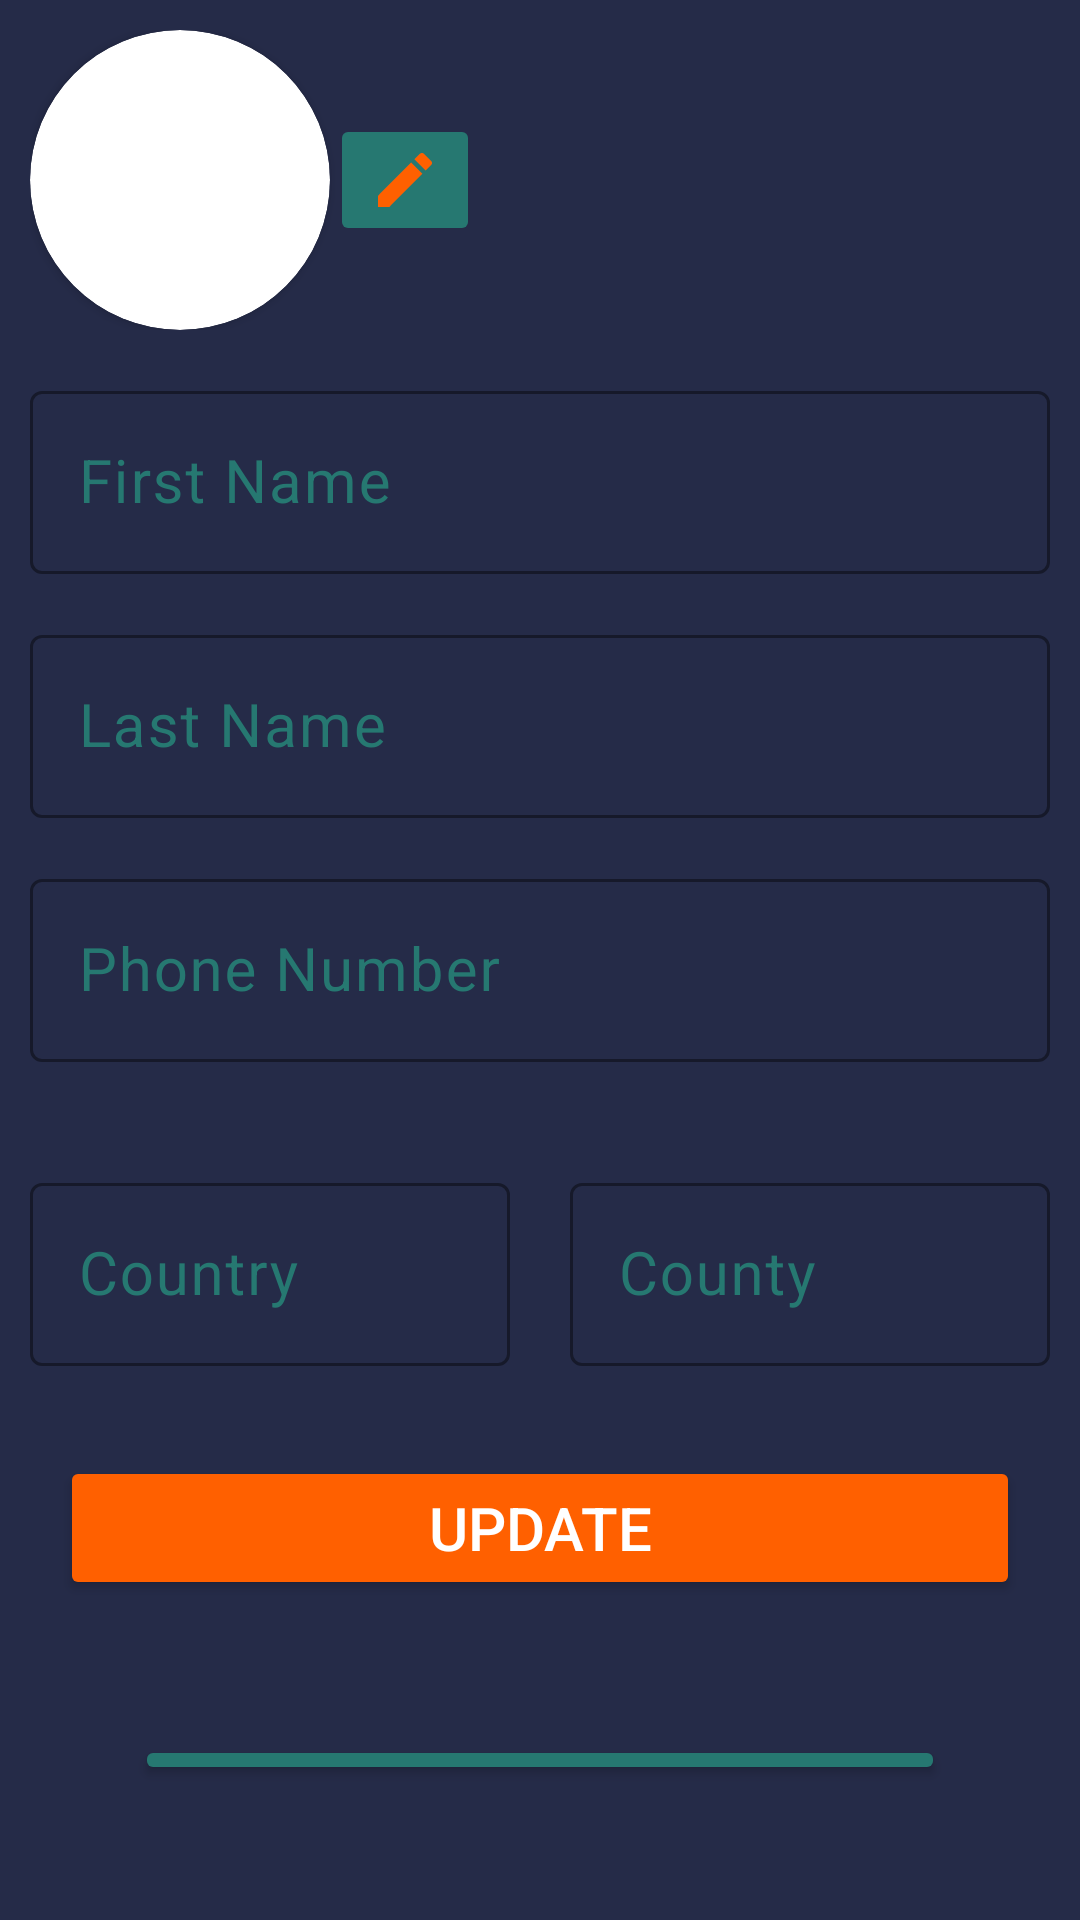

Icons on this 1080px×1920px Android screen, each with the point to tap as [x,y]:
edit: [405,180]
